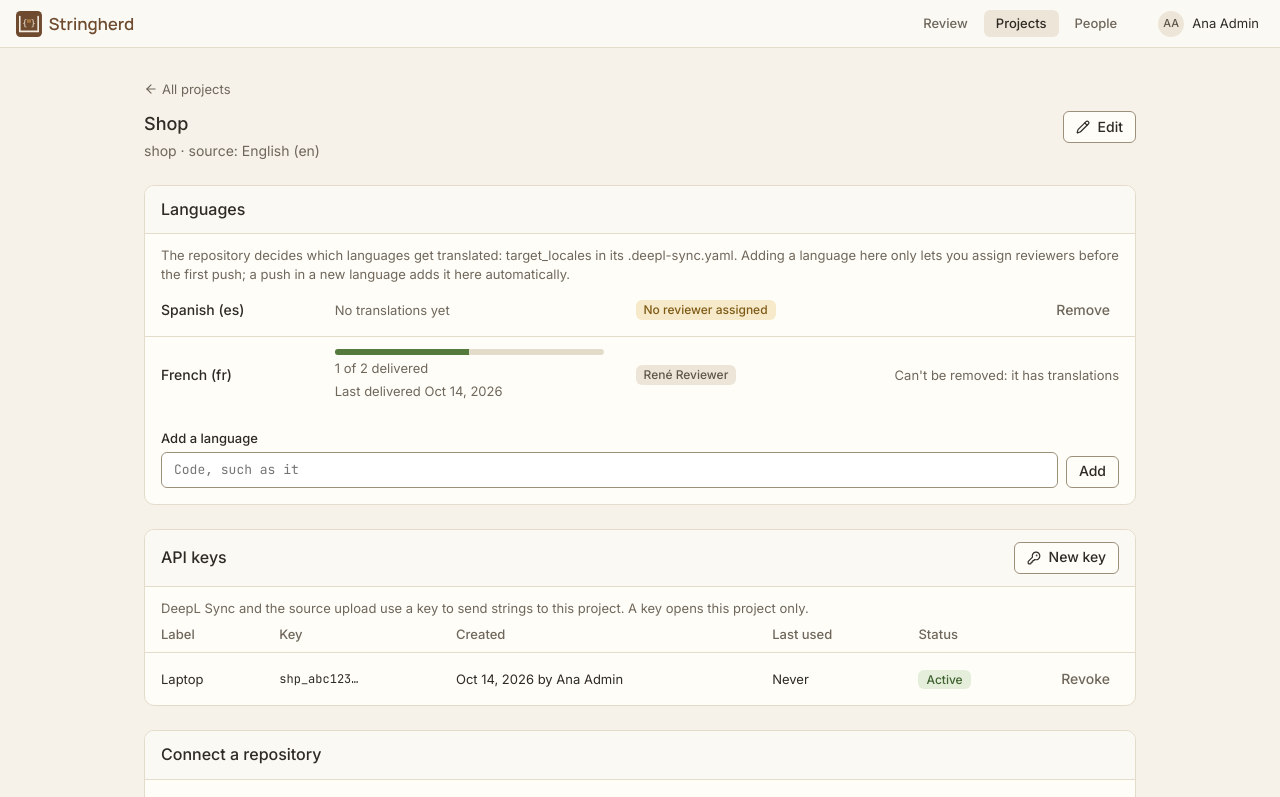
Test case: project administration › shows a new key once, and the setup snippet
Check: the heading "Shop" is shown, box [144, 113, 188, 134]
Check: the text "No reviewer assigned" is shown, box [636, 300, 776, 320]
Click the button "New key".
click(1066, 558)  # box [1014, 542, 1119, 574]
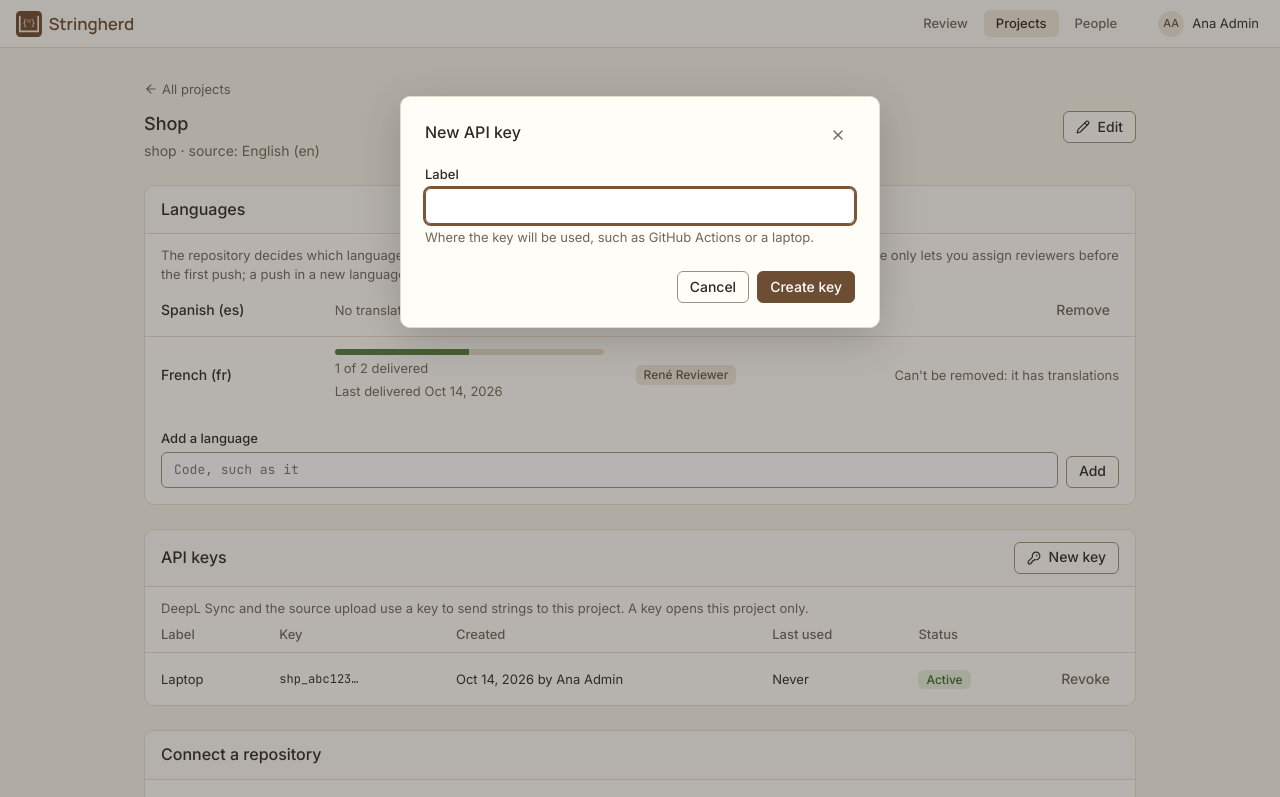
Type "CI" into the field labelled "Label".
click(640, 206); type("CI")  # box [425, 188, 855, 224]
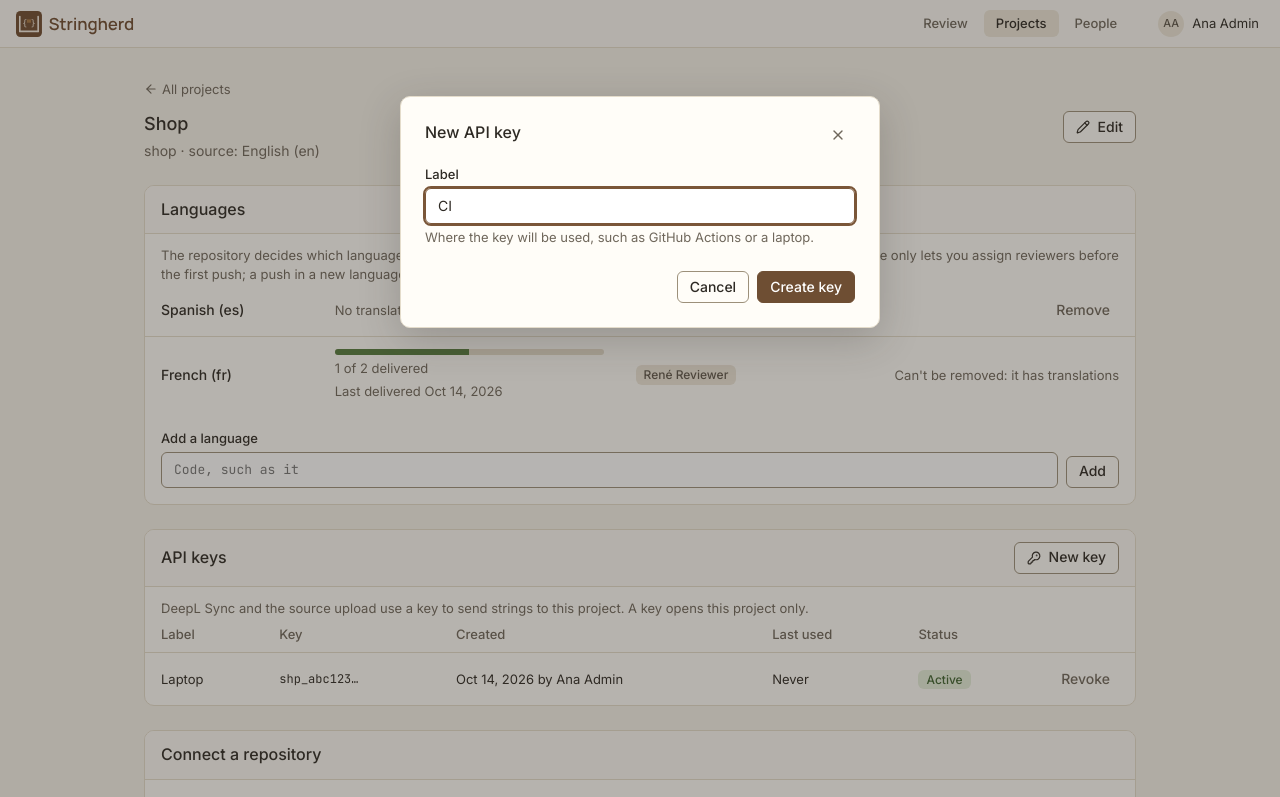
Click the button "Create key".
click(806, 287)  # box [757, 271, 855, 303]
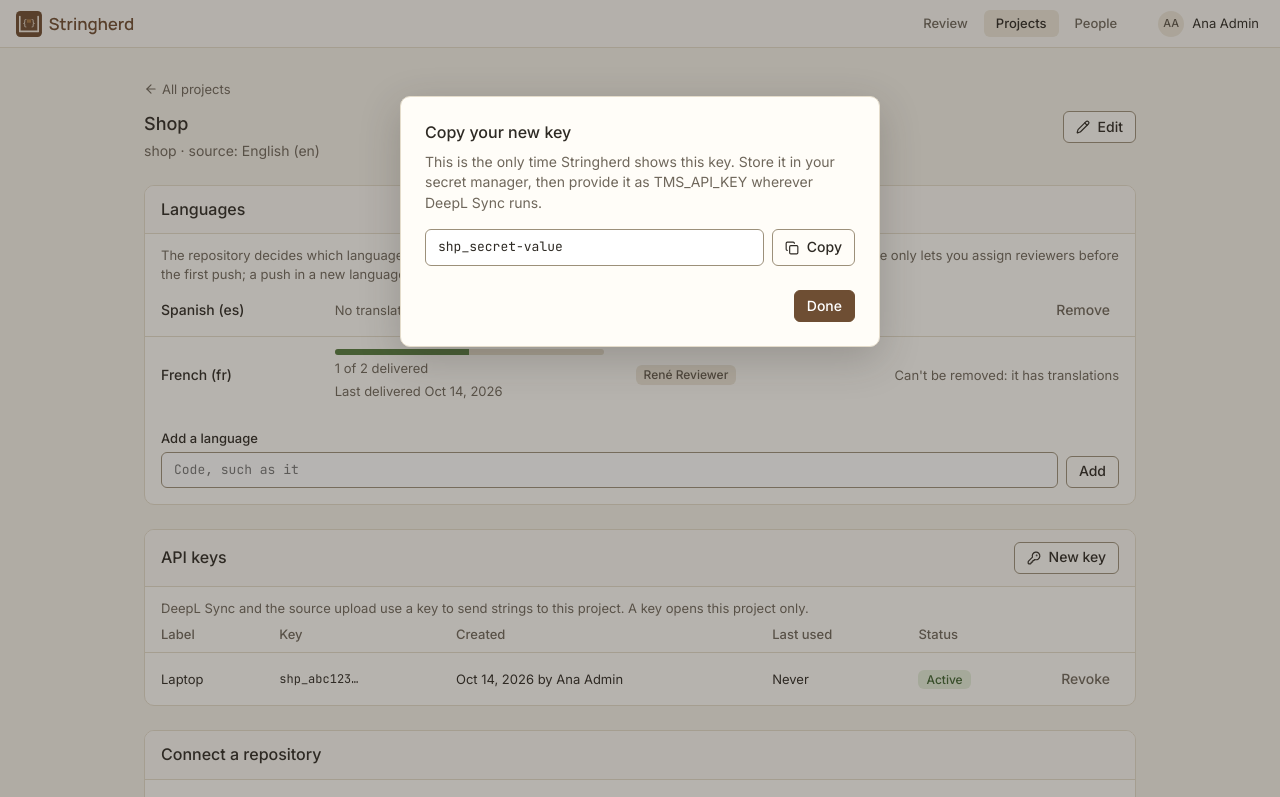
Check: the text named "API key" reads "shp_secret-value", box [438, 238, 563, 255]
Press Escape
Check: the dialog "Copy your new key" is shown, box [400, 96, 880, 347]
Click the button "Done".
click(824, 306)  # box [794, 290, 855, 322]
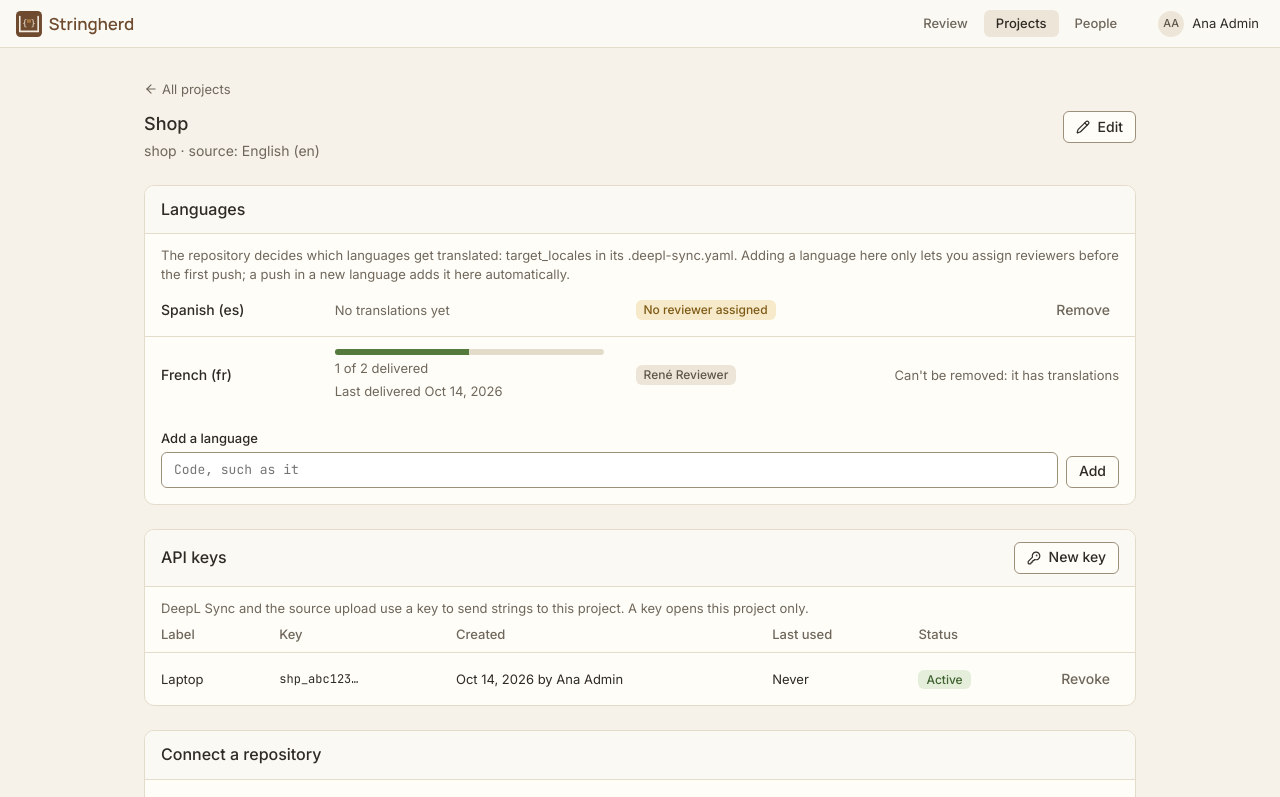
Check: the text "shp_secret-value" is gone
